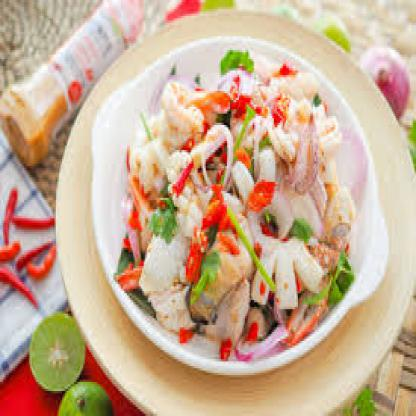Yum: (91, 44, 378, 380)
